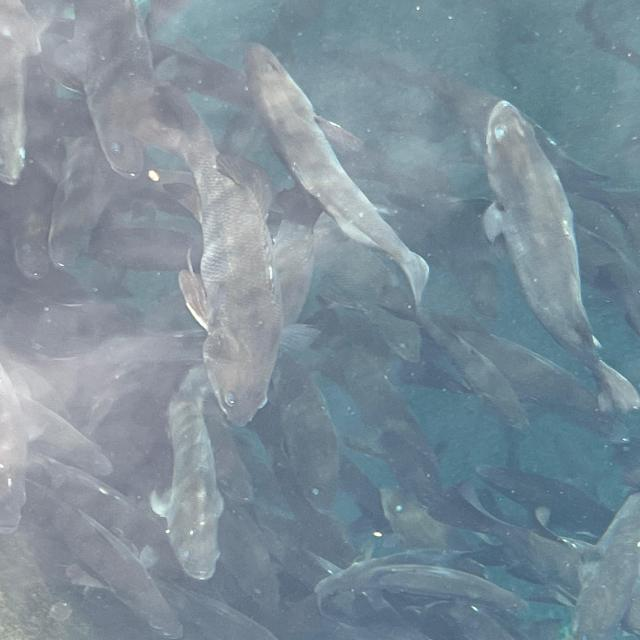ikan: (36, 1, 285, 427), (241, 40, 431, 309), (478, 98, 638, 417), (148, 363, 226, 581)
